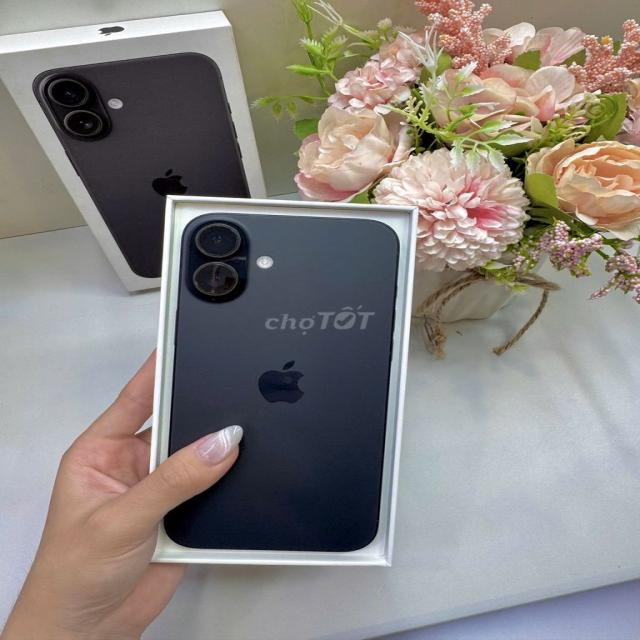gen_16: (165, 204, 407, 551)
scratch: (207, 221, 247, 252), (188, 278, 232, 302)
